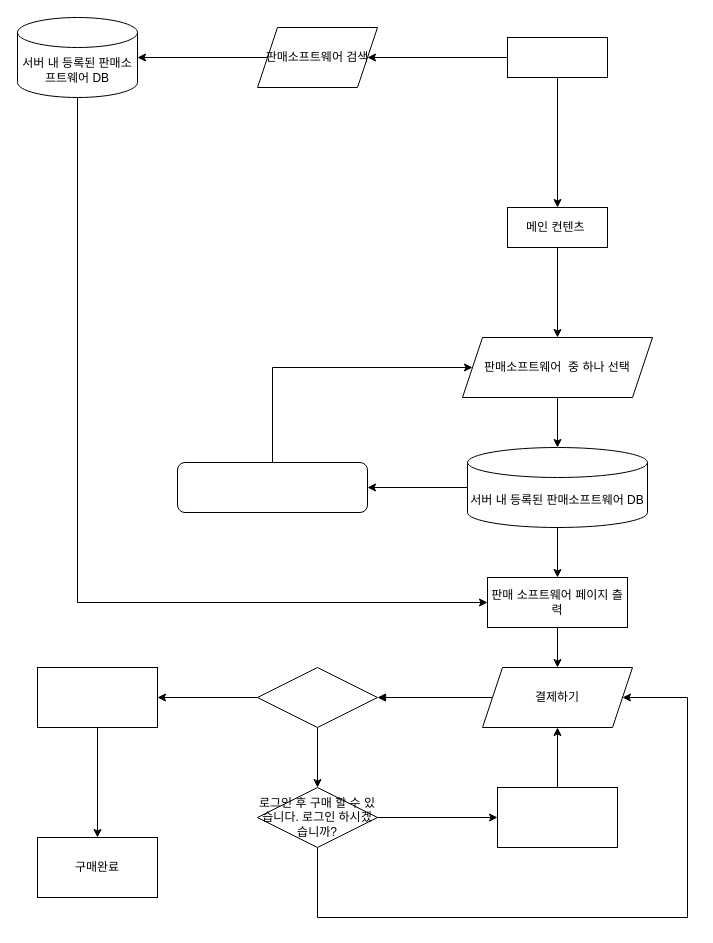
Image size: 713x943. Some labels were removed from this diagram. Here are the shapes that lost their labels. From the top down, the centre of each, then its label:
At point 557,57: "메인페이지".
At point 272,487: "아직 등록된 소프트웨어가 없습니다.".
At point 97,697: "결제 방법 선택".
At point 317,697: "로그인 유무".
At point 557,817: "로그인".
